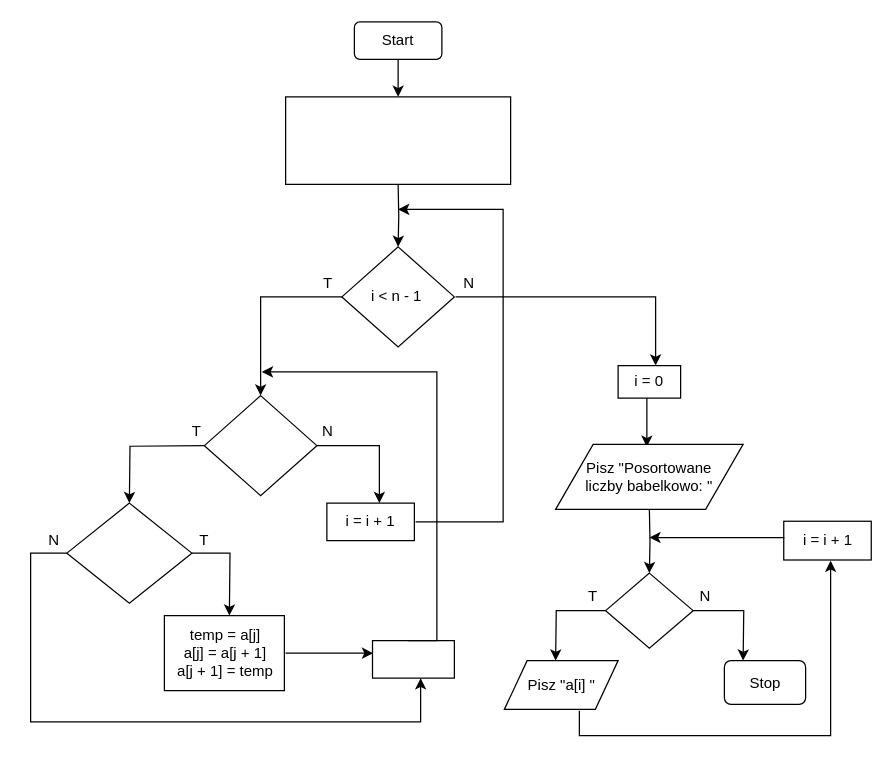
The diagram is 894 pixels wide and 768 high, and some of its shapes have lost their labels. The shapes that lost their labels are listed below. From the top down, each one's centre as x and y in pixels, then its label:
the point at 397,140: a = {5, 7, 1, 8, 6, 2, 0, 4, 9, 3} n = 10 i = 0 j = 0
the point at 260,445: j < n - i - 1
the point at 129,552: a[j] > a[j + 1]
the point at 648,610: i < n
the point at 412,658: j = j + 1
